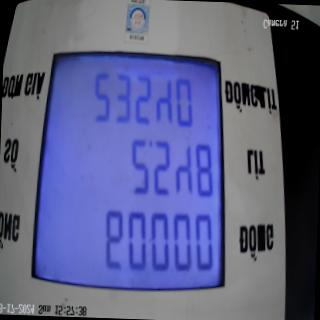screen: (28, 40, 238, 314)
